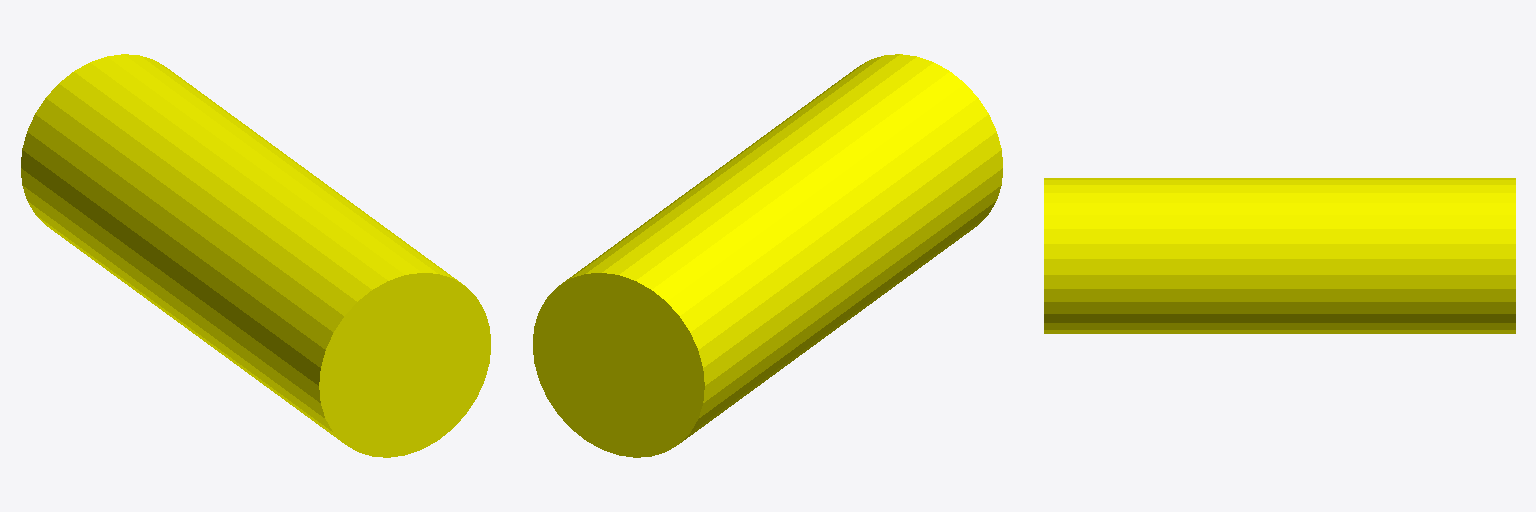
URDF robot description (cylinder):
<?xml version="1.0" ?>
<robot name="cylinder">
  <link name="baseLink">
    <contact>
      <lateral_friction value="1.0"/>
      <rolling_friction value="0.0"/>
      <contact_cfm value="0.0"/>
      <contact_erp value="1.0"/>
    </contact>
    <inertial>
      <origin rpy="0 0 0" xyz="0 0 0"/>
       <mass value="1.0"/>
       <inertia ixx="1" ixy="0" ixz="0" iyy="1" iyz="0" izz="1"/>
    </inertial>
    <visual>
      <origin rpy="0 0 0" xyz="0 0 0"/>
      <geometry>
				<mesh filename="cylinder.obj" scale="0.5 0.5 0.5"/>
      </geometry>
       <material name="yellow">
        <color rgba="1 1 0 1"/>
      </material>
    </visual>
    <collision>
      <origin rpy="0 0 0" xyz="0 0 0"/>
      <geometry>
	 	<mesh filename="cylinder.obj" scale="0.5 0.5 0.5"/>
      </geometry>
    </collision>
  </link>
</robot>

--- What the picture shows (computed from the rendered views, not written in the file) ---
Views: 3 orthographic renders of the robot side by side, from view 1: azimuth 30°, elevation 25°; view 2: azimuth 150°, elevation 25°; view 3: azimuth 270°, elevation 25°.
Robot: cylinder — 1 links, 0 joints (none); root link baseLink; default pose: all joints at 0.
Visible links, largest first — view 1: baseLink; view 2: baseLink; view 3: baseLink.
Boxes of the visible links, bbox=[...] form: baseLink: bbox=[21, 54, 490, 457]; baseLink: bbox=[533, 54, 1002, 457]; baseLink: bbox=[1044, 178, 1515, 333].
Size in the robot's own frame: 1 by 3 by 1 metres.
Meshes: 1 distinct files referenced, 1 mesh visuals loaded (1 OBJ).